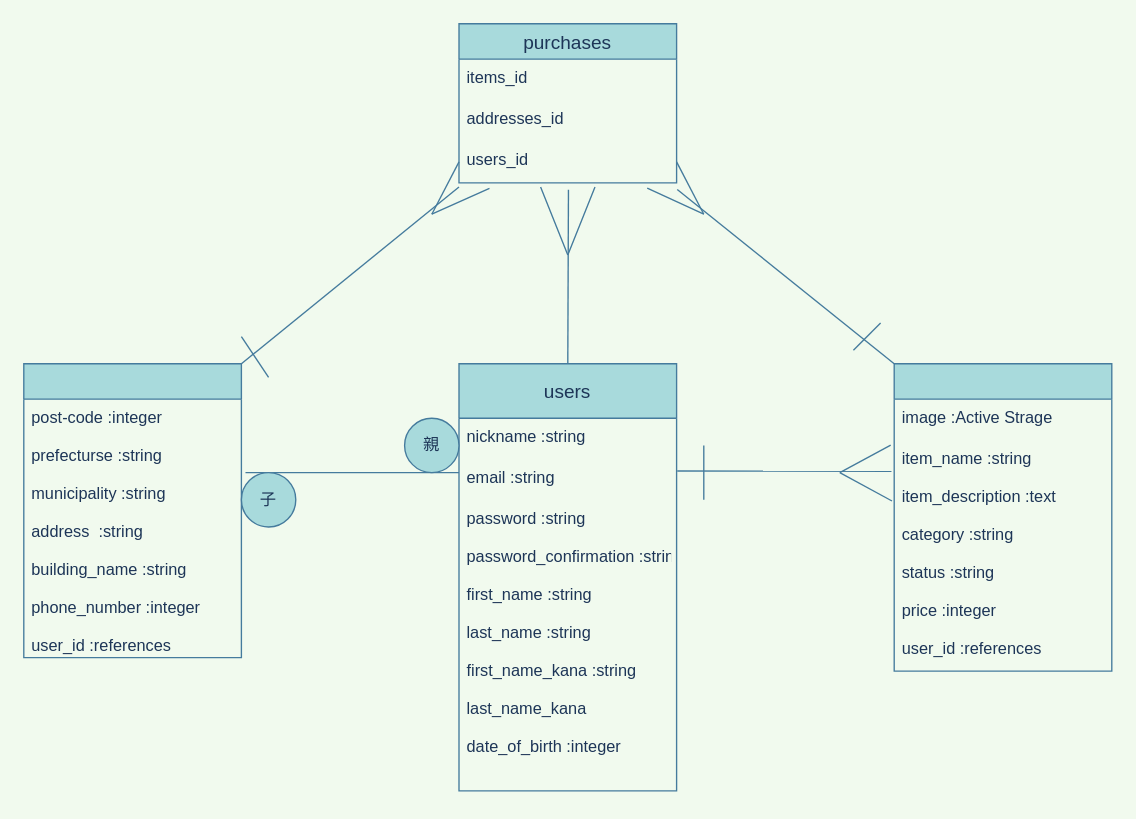
The diagram is 1136 pixels wide and 819 high, and some of its shapes have lost their labels. The shapes that lost their labels are listed below. From the top down, each one's box as (x1, y1, x2, y2) in pixels, then its label:
(22, 362, 241, 658): addresses
(893, 362, 1112, 671): items
